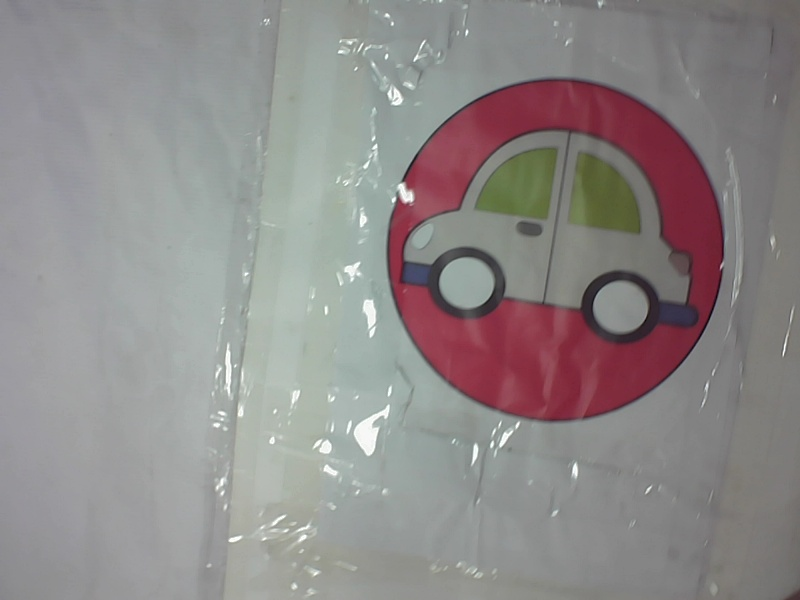areaC: (370, 71, 742, 429)
